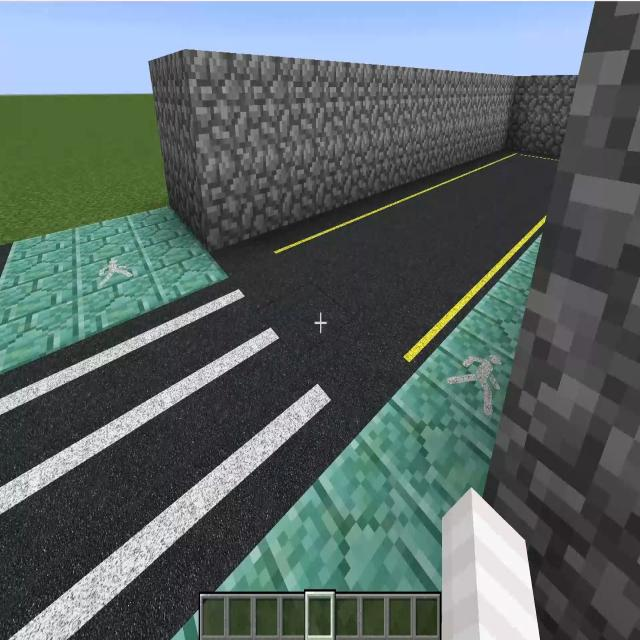crosswalk: (0, 280, 350, 639)
road: (222, 144, 559, 418)
sidewalk: (219, 239, 540, 591), (0, 207, 227, 373)
